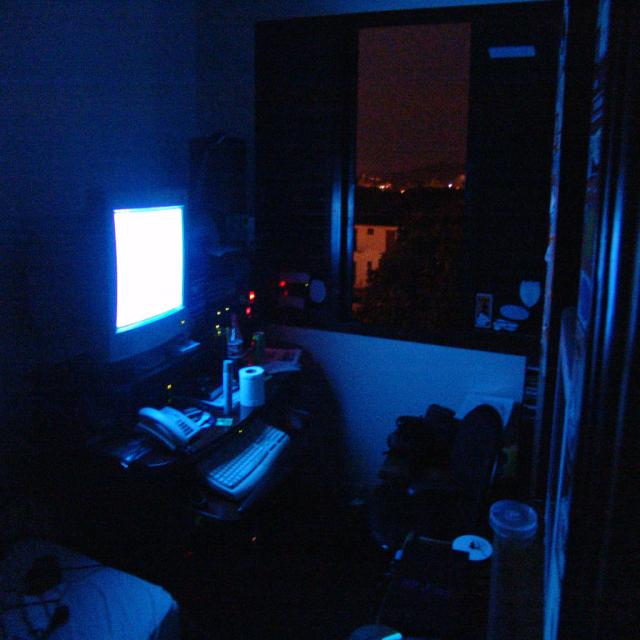Table: (120, 337, 339, 626), (338, 487, 571, 640)
